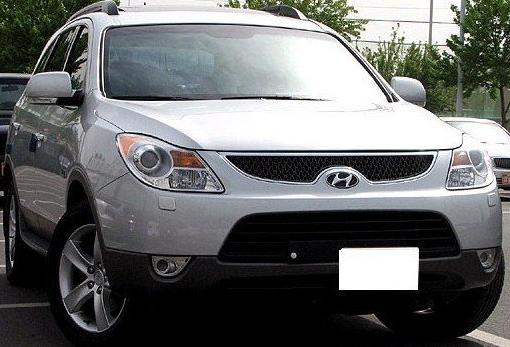front_view: (114, 128, 503, 297)
headlight: (113, 129, 228, 200)
